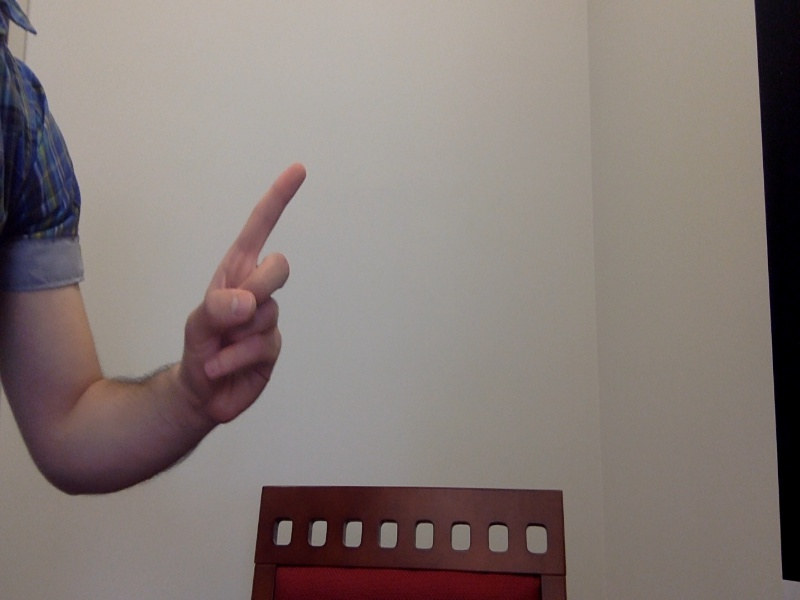1-hand: (173, 163, 316, 426)
